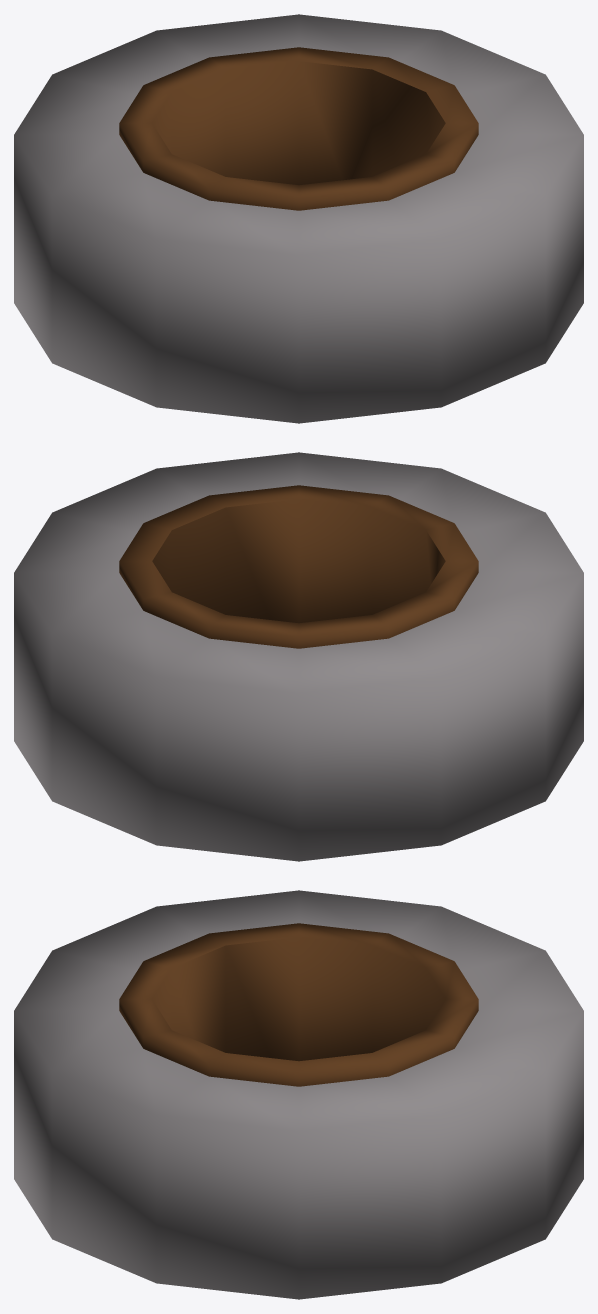
Rendered from Fita.fbx.
3 views of the same model, one above another, from view 1: azimuth 30°, elevation 25°; view 2: azimuth 150°, elevation 25°; view 3: azimuth 270°, elevation 25° (orthographic).
Parts seen in each view (by area): view 1: Tape; view 2: Tape; view 3: Tape.
Boxes of the visible parts, x1,y1,x2,y2 form: Tape: [14, 14, 583, 423]; Tape: [14, 452, 583, 861]; Tape: [14, 890, 583, 1299].
Bounding box in the file's own units: 100 × 37.11 × 100.
